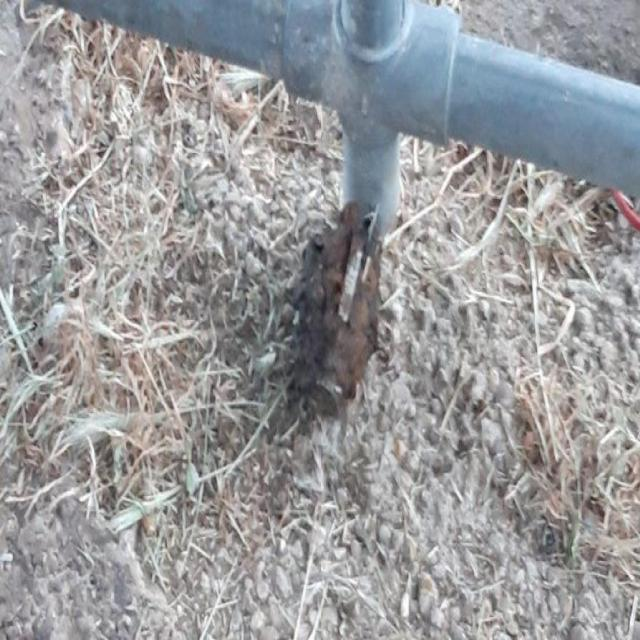grenade: (295, 201, 384, 422)
